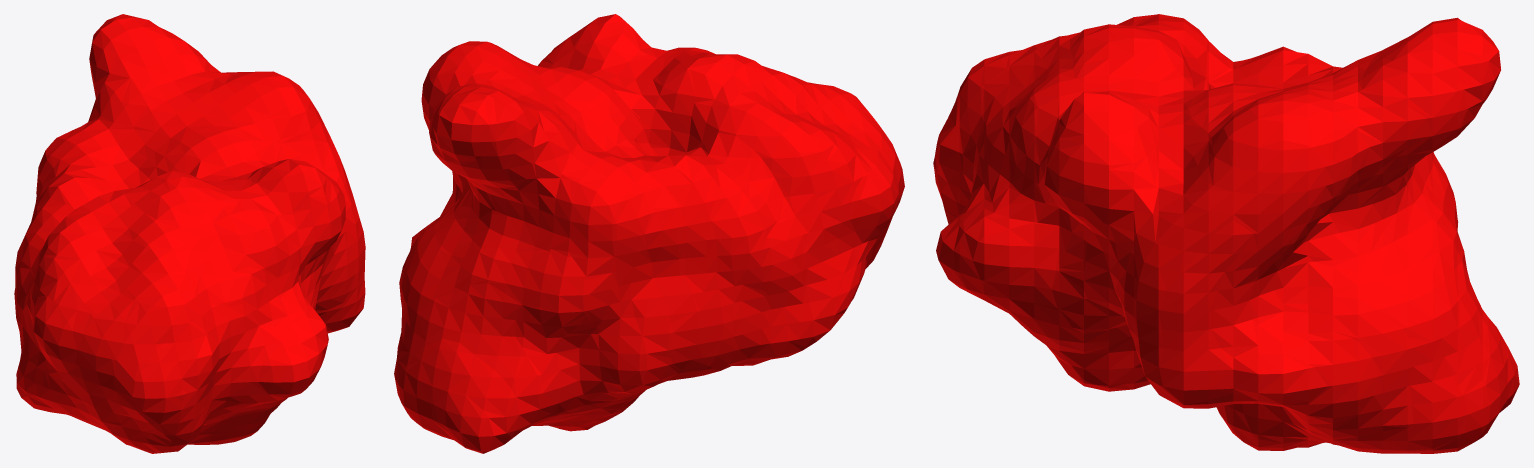
Rendered from srlE_coarse.dae.
The picture shows the model from 3 angles, left to right: view 1: azimuth 30°, elevation 25°; view 2: azimuth 150°, elevation 25°; view 3: azimuth 270°, elevation 25°; orthographic projection. The views are drawn at different scales.
Parts seen in each view (by area): view 1: srlE; view 2: srlE; view 3: srlE.
Part boxes in pixels (x1=…): srlE: x1=14, y1=14, x2=365, y2=453; srlE: x1=394, y1=14, x2=904, y2=453; srlE: x1=933, y1=14, x2=1519, y2=453.
Bounding box in the file's own units: 54.41 × 49.82 × 60.84.
